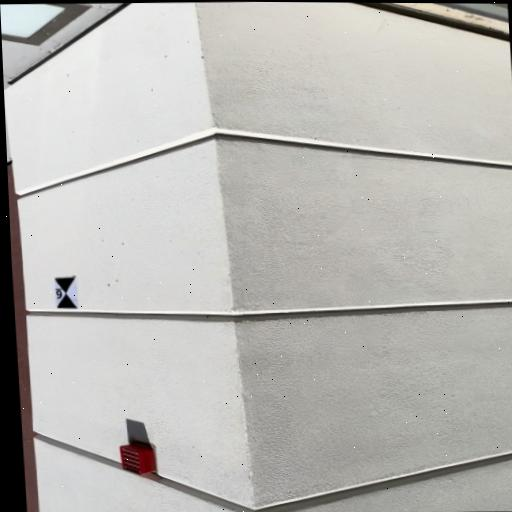target6: (55, 277, 78, 309)
